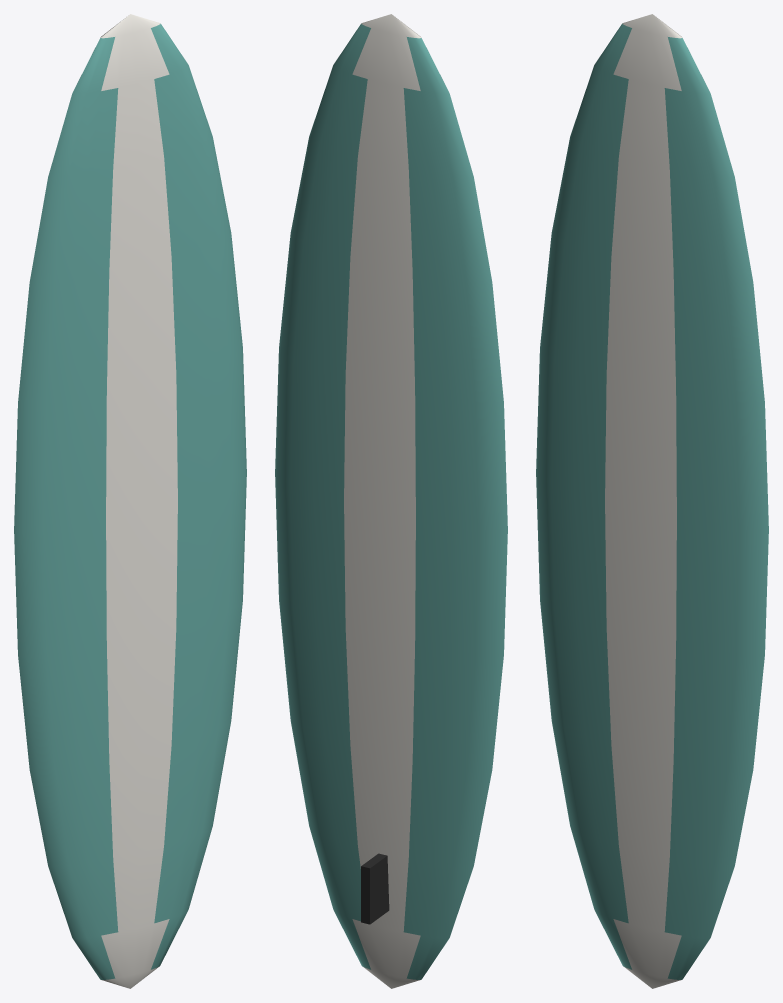
File: b_surf_teal.gltf
3 renders of one model, left to right at view 1: azimuth 30°, elevation 25°; view 2: azimuth 150°, elevation 25°; view 3: azimuth 330°, elevation 25°, orthographic.
Visible parts, largest first — view 1: b_surf_teal; view 2: b_surf_teal; view 3: b_surf_teal.
Boxes of the visible parts, x1,y1,x2,y2 form: b_surf_teal: (14,14,246,988); b_surf_teal: (275,14,507,988); b_surf_teal: (536,14,768,988).
Bounding box in the file's own units: 0.52 × 2.08 × 0.1468.
Materials: 1 (1 with a texture image).
